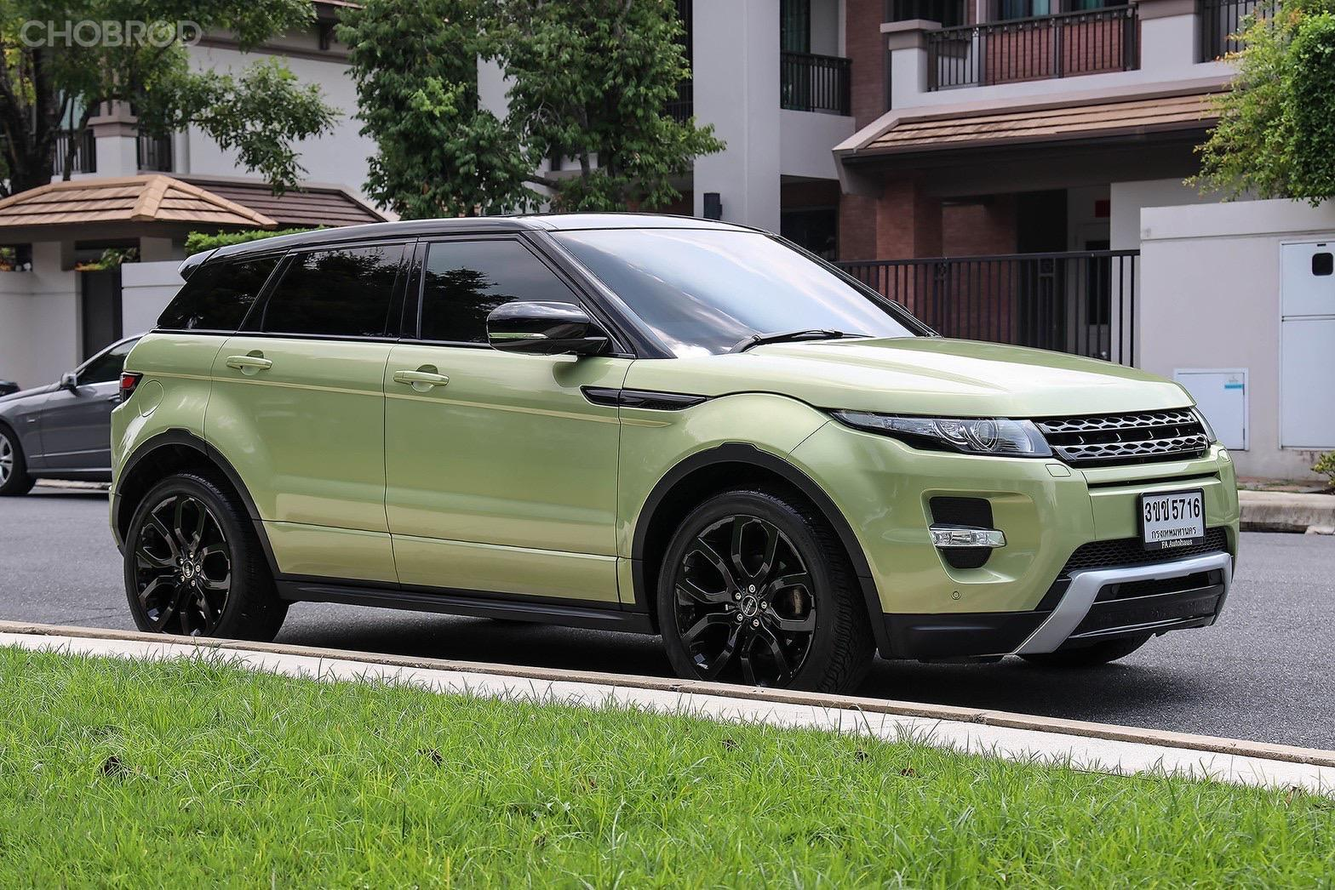license-plate: (1138, 486, 1209, 555)
